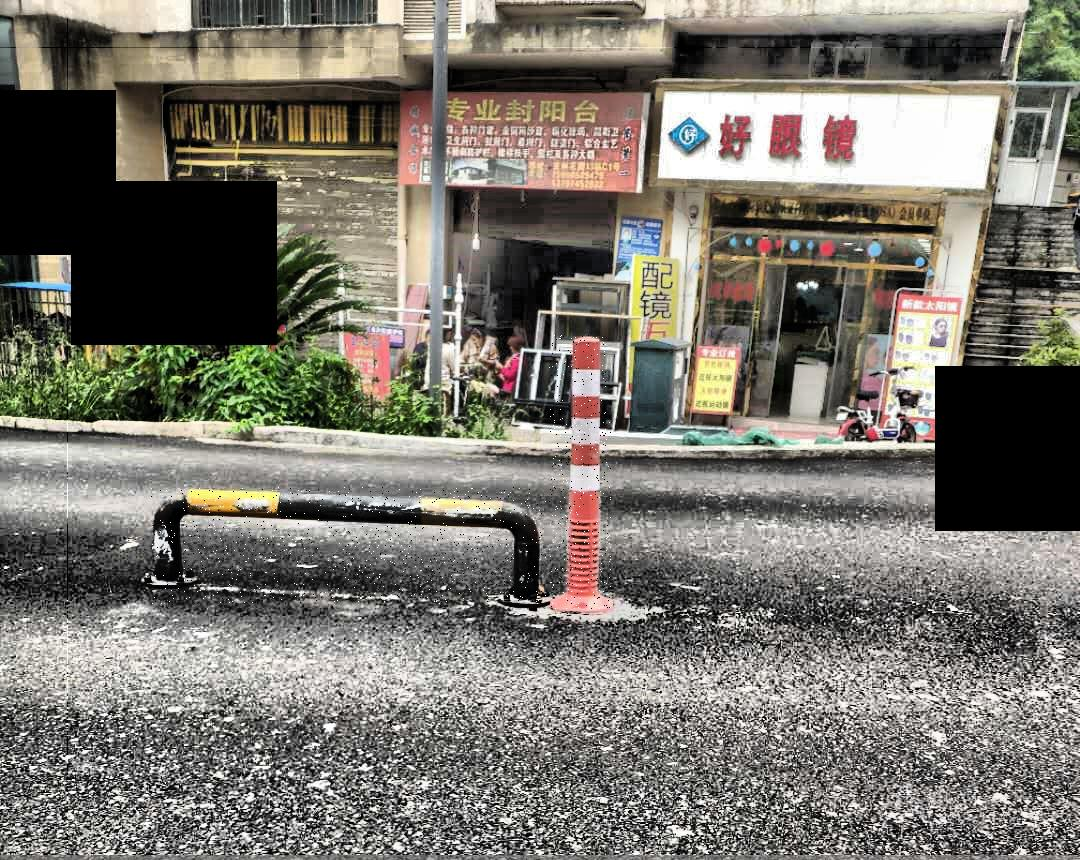bench: (549, 335, 612, 610)
can and bottle trash cans: (151, 487, 547, 605)
